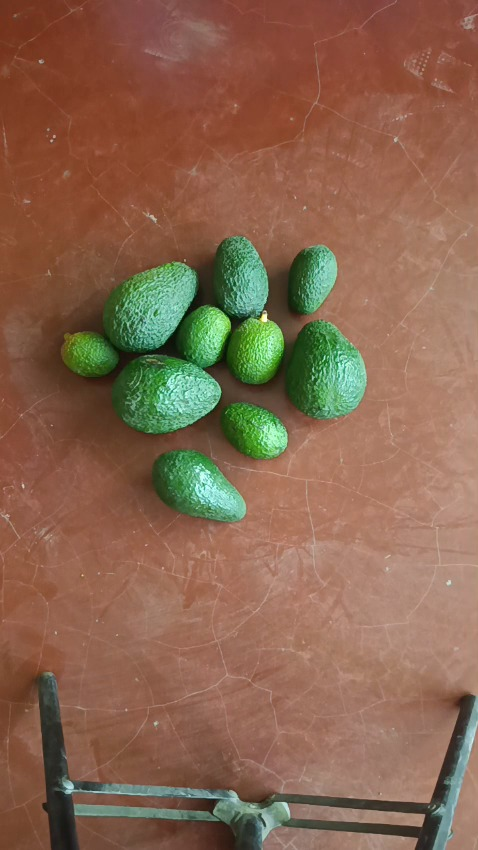Primera: (102, 261, 199, 352), (111, 354, 221, 433), (285, 320, 367, 418)
Segunda: (151, 449, 246, 521), (212, 235, 268, 321)
Tercera: (220, 401, 289, 459), (226, 317, 284, 384), (174, 305, 231, 369), (287, 245, 337, 316), (61, 330, 119, 378)
